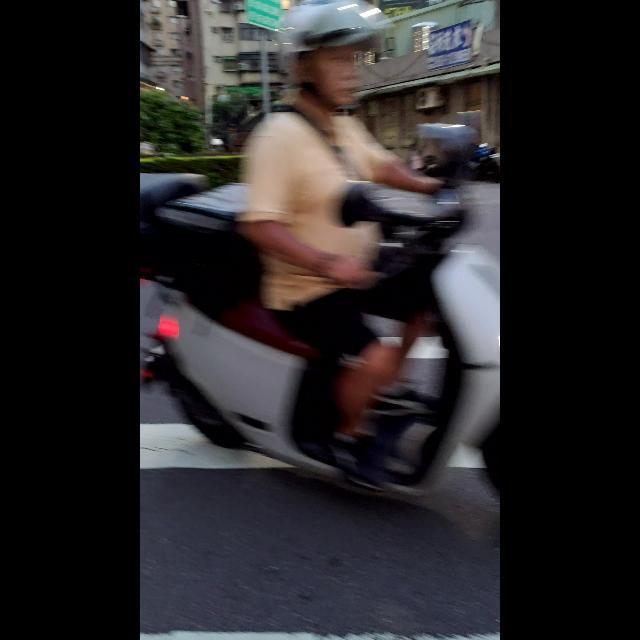sidewalk: (140, 423, 500, 469)
